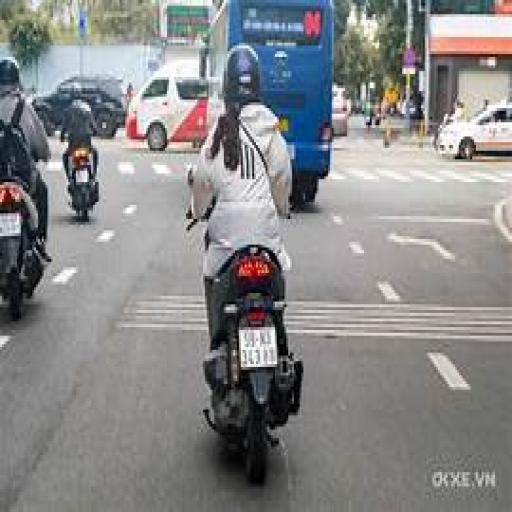place: (239, 322, 278, 368), (0, 212, 19, 235), (73, 169, 94, 184)
